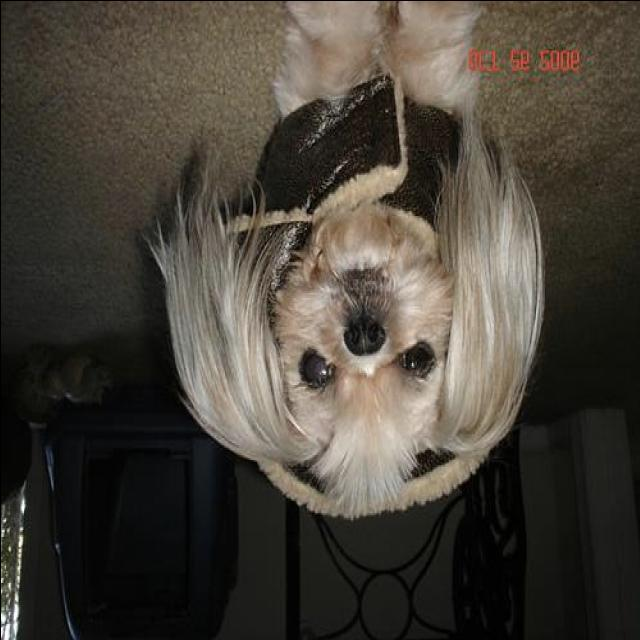shih_tzu: (162, 1, 548, 514)
